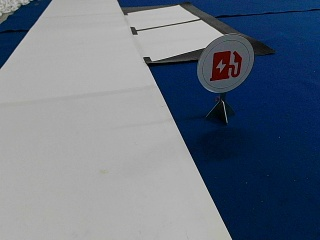battery: (196, 35, 254, 93)
